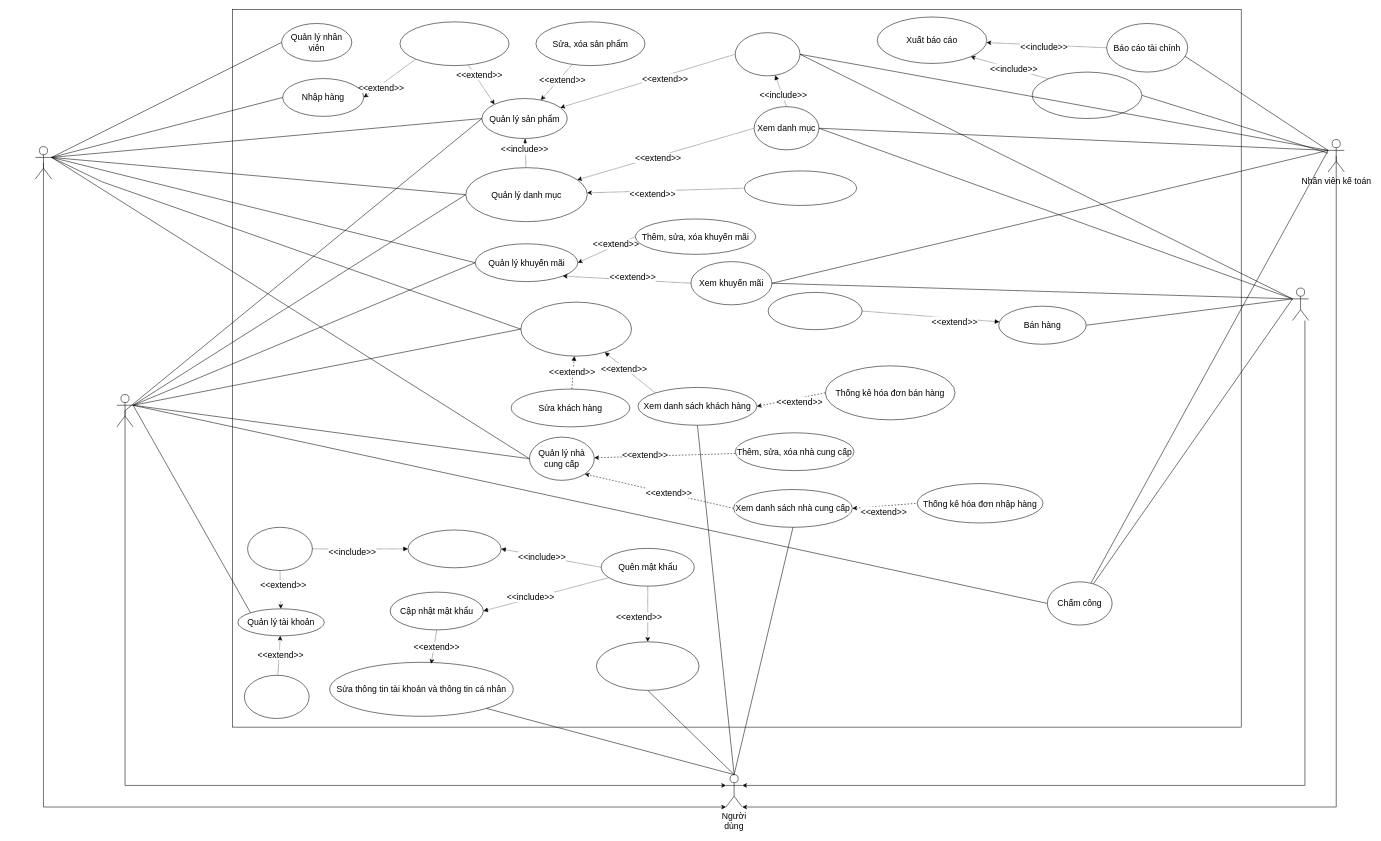
Image size: 1381x841. Some labels were removed from this diagram. The shapes that lost their labels are listed below. From the top down, each one's centre as x and y in pixels, then its label:
At point 454,43: "Thêm sản phẩm".
At point 767,54: "Xem sản phẩm".
At point 1087,95: "Tính tiền lương nhân viên".
At point 43,162: "Quản lý cửa hàng".
At point 800,187: "Thêm, sửa, xóa danh mục".
At point 815,311: "Thêm khách hàng".
At point 1300,304: "Nhân viên bán hàng".
At point 576,329: "Quản lý khách hàng".
At point 124,410: "Quản trị viên".
At point 279,549: "Tạo tài khoản".
At point 454,548: "Xác nhận email".
At point 647,665: "Đăng nhập".
At point 276,696: "Khóa tài khoản".
